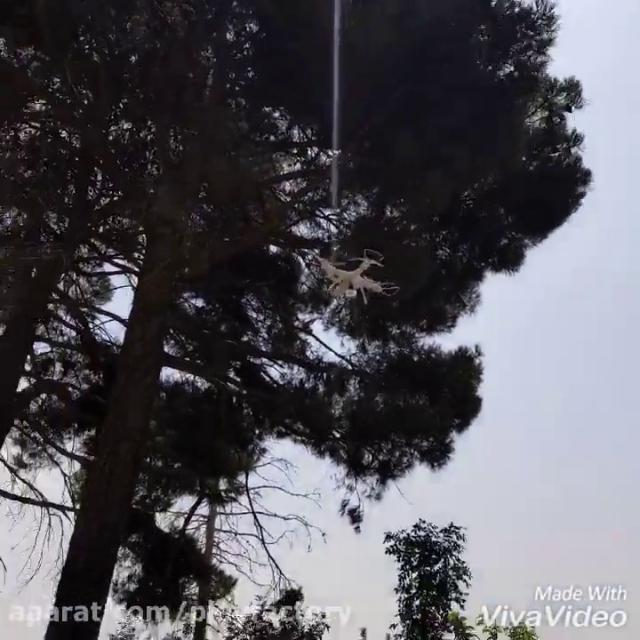drone: (312, 247, 400, 306)
